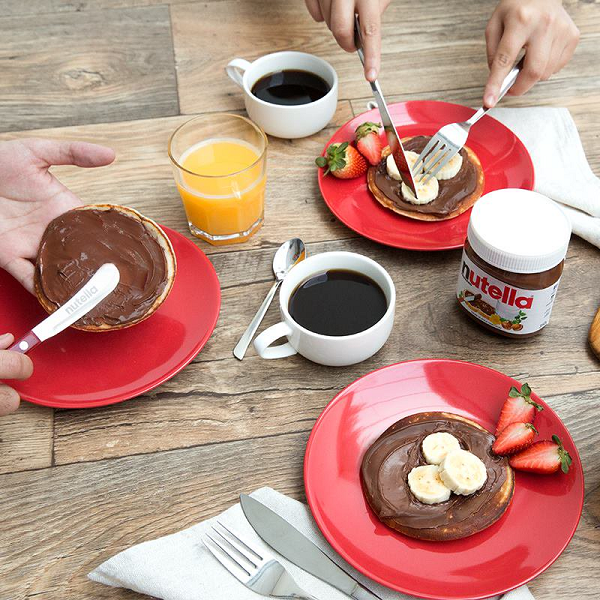nutella: (452, 188, 572, 342)
